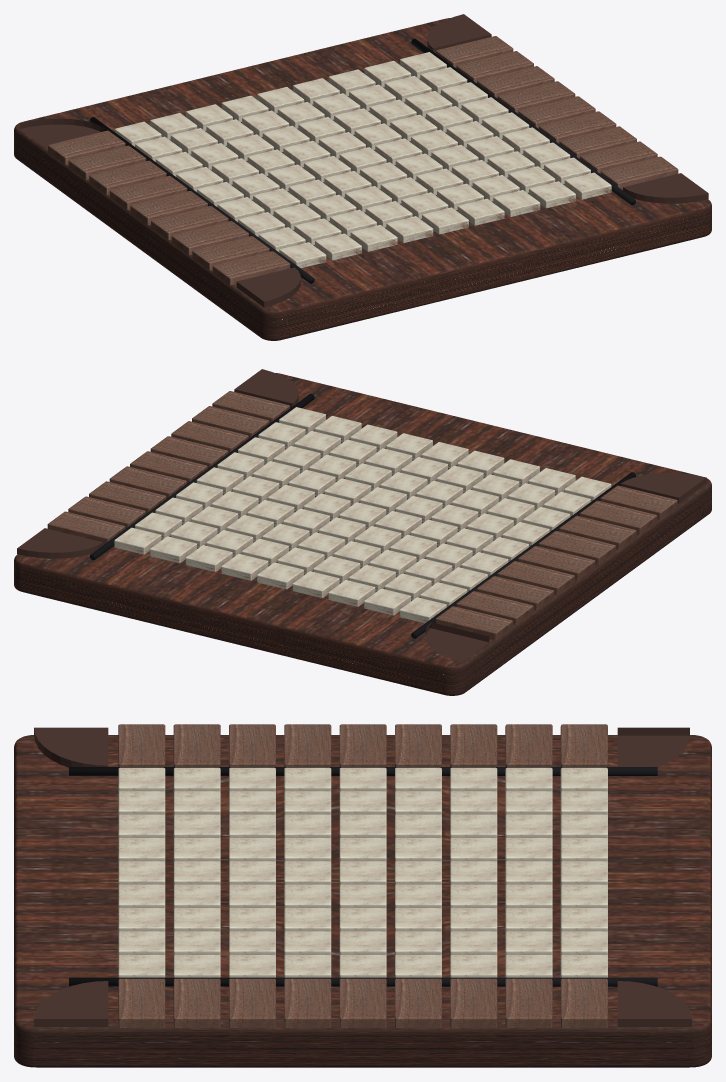
File: Quoridor_Real_Real_Final.fbx
3 renders of one model, top to bottom at view 1: azimuth 30°, elevation 25°; view 2: azimuth 150°, elevation 25°; view 3: azimuth 270°, elevation 25°, orthographic. The views are drawn at different scales.
Parts seen in each view (by area): view 1: Field, Main_board; view 2: Field, Main_board; view 3: Field, Main_board.
Part boxes in pixels (x1,y1,x2,y2): Field: (20,14,708,307); Main_board: (14,18,711,340); Field: (17,369,706,661); Main_board: (14,373,711,695); Field: (34,724,691,1027); Main_board: (14,735,711,1067).
Bounding box in the file's own units: 1578 × 125 × 1578.
